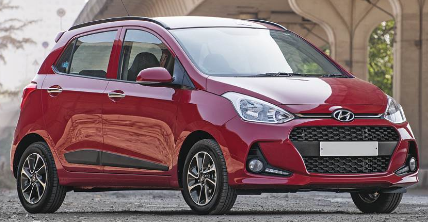car: (7, 15, 420, 217)
